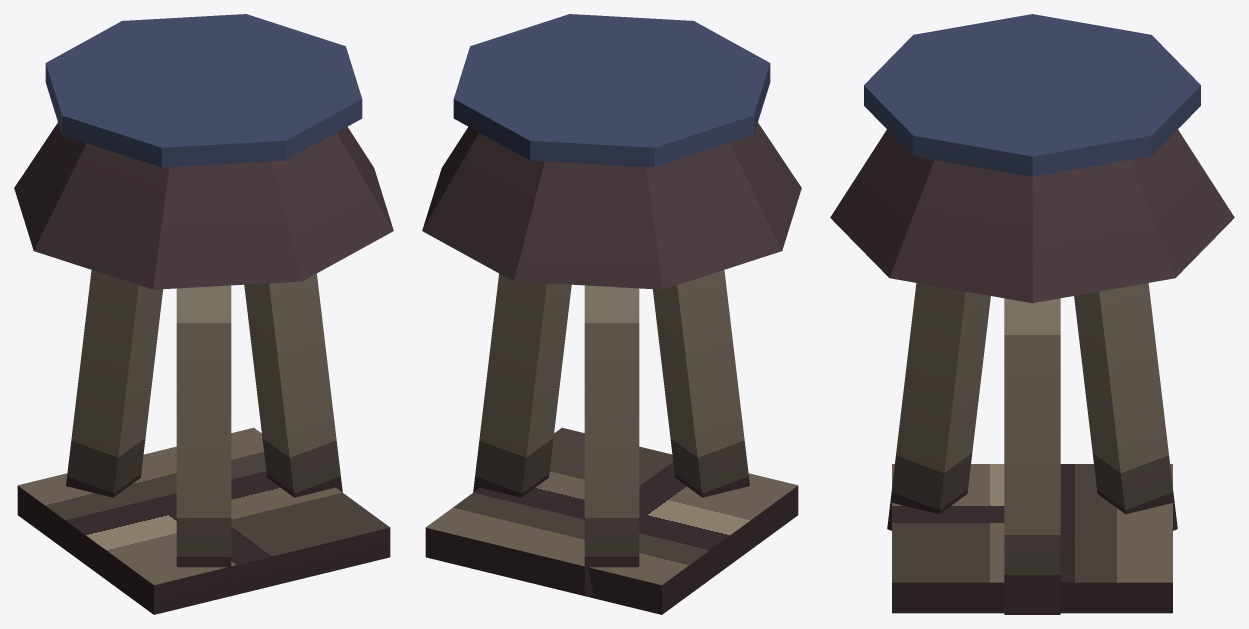
Rendered from brazier.glb.
3 renders of one model, left to right at view 1: azimuth 30°, elevation 25°; view 2: azimuth 150°, elevation 25°; view 3: azimuth 270°, elevation 25°, orthographic. The views are drawn at different scales.
Parts seen in each view (by area): view 1: brazier; view 2: brazier; view 3: brazier.
Boxes of the visible parts, box(x1,y1,x2,y2) form: brazier: box(14, 14, 393, 614); brazier: box(422, 14, 801, 614); brazier: box(830, 14, 1234, 614).
Size of the model in its own units: 0.72 by 0.926 by 0.72.
Materials: 2 (1 with a texture image).
